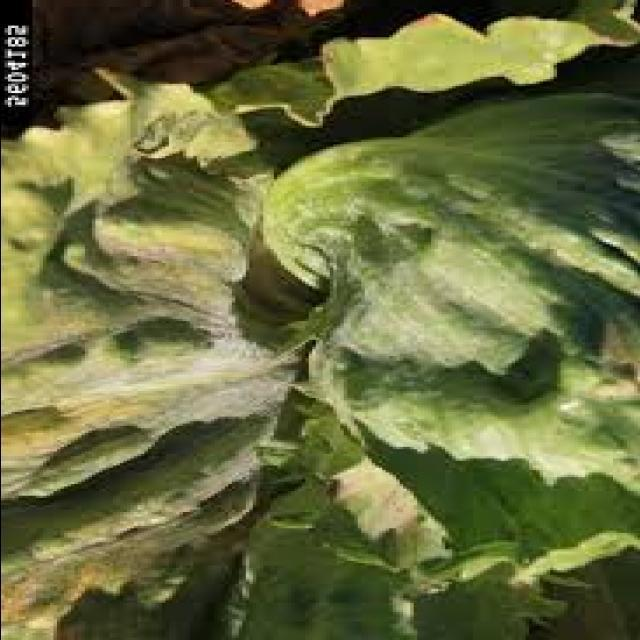Powdery_mildew_on_lettuce: (26, 240, 591, 456)
